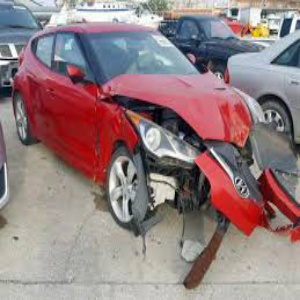bonnet: (151, 73, 243, 144)
